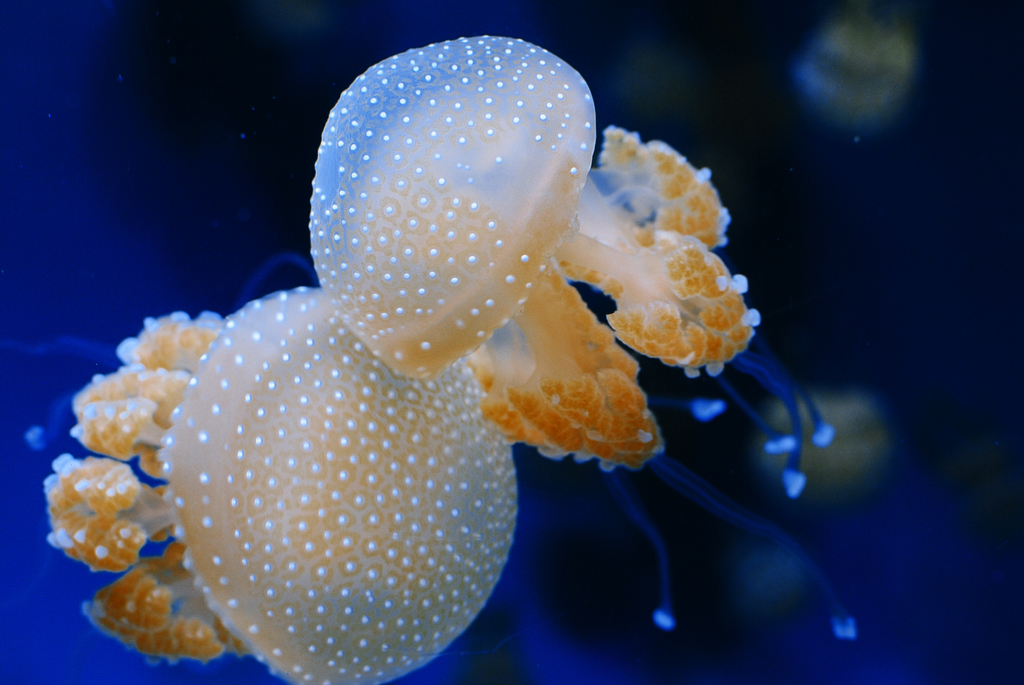Jellyfish: (306, 30, 765, 472), (36, 287, 523, 684)
